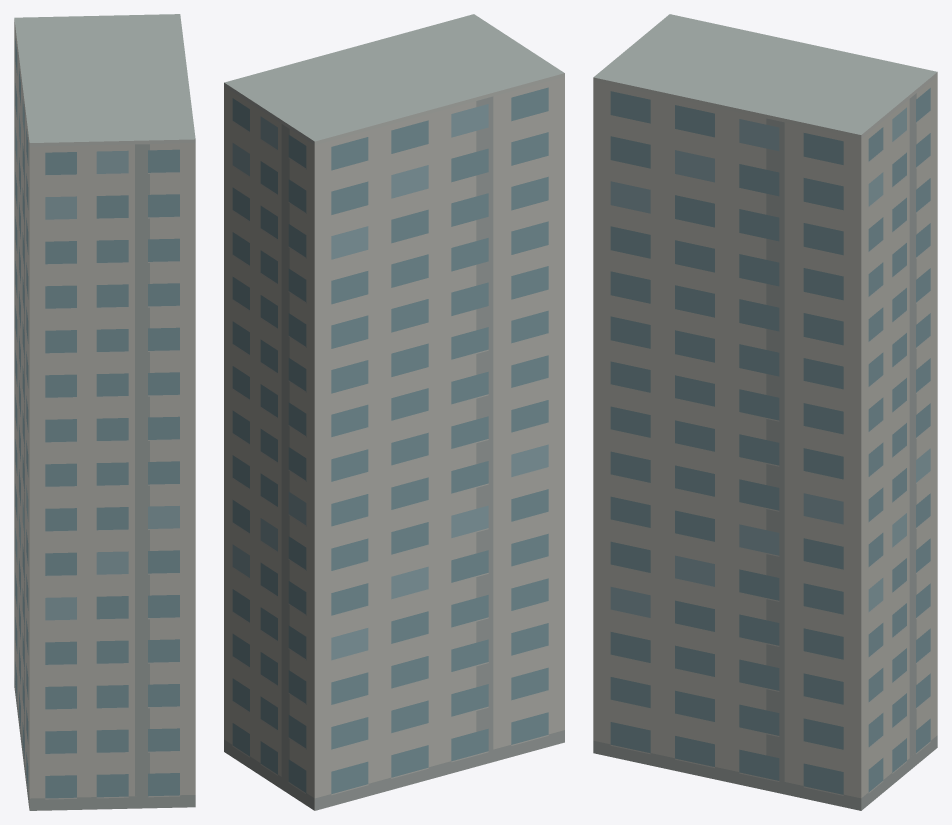
File: residential-a74e0b35-b243-4f1c-9ba1-0a3d3e2d38c0.glb
The picture shows the model from 3 angles, left to right: view 1: azimuth 30°, elevation 25°; view 2: azimuth 150°, elevation 25°; view 3: azimuth 270°, elevation 25°; orthographic projection.
Visible parts, largest first — view 1: residential-a74e0b35-b243-4f1c-9ba1-0a3d3e2d38c0.tmp; view 2: residential-a74e0b35-b243-4f1c-9ba1-0a3d3e2d38c0.tmp; view 3: residential-a74e0b35-b243-4f1c-9ba1-0a3d3e2d38c0.tmp.
Part boxes in pixels (x1,y1,x2,y2): residential-a74e0b35-b243-4f1c-9ba1-0a3d3e2d38c0.tmp: (14, 14, 195, 810); residential-a74e0b35-b243-4f1c-9ba1-0a3d3e2d38c0.tmp: (224, 14, 564, 810); residential-a74e0b35-b243-4f1c-9ba1-0a3d3e2d38c0.tmp: (593, 14, 937, 810).
Bounding box in the file's own units: 16.93 × 44 × 20.33.
